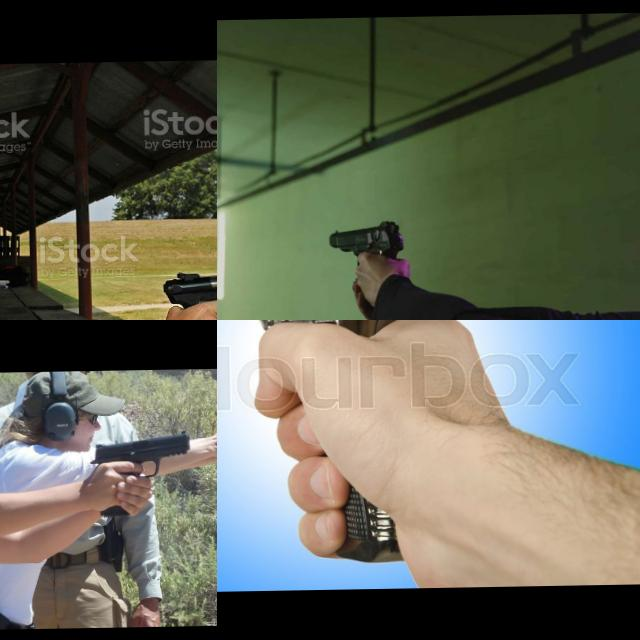handgun: (217, 320, 418, 392), (88, 426, 192, 482), (326, 218, 406, 268), (160, 261, 217, 320)
